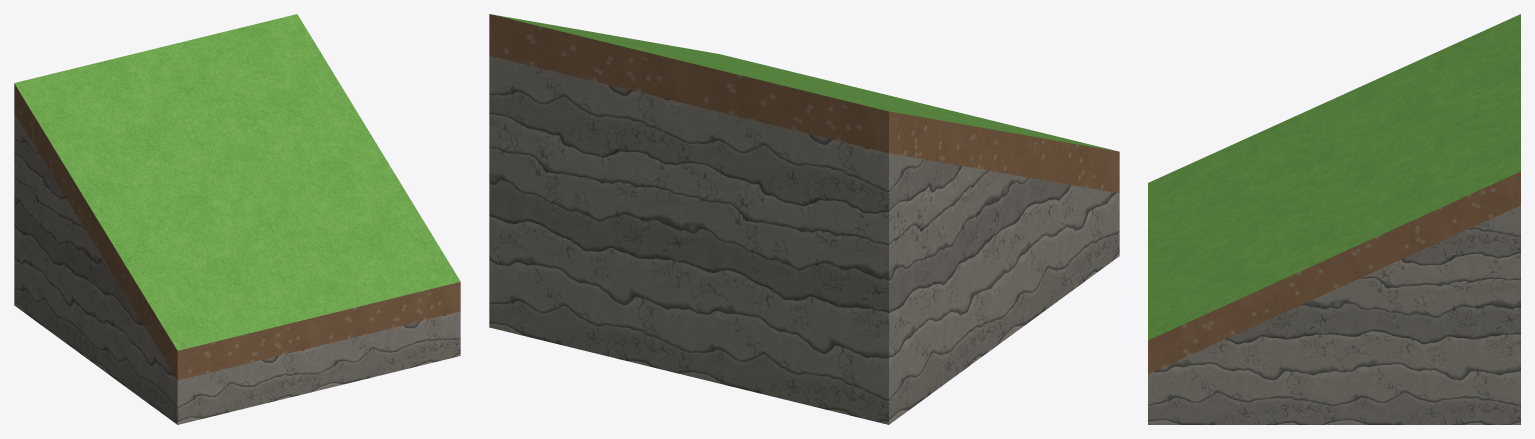
The model's file is Slope_LtoU_Straight.fbx.
3 renders of one model, left to right at view 1: azimuth 30°, elevation 25°; view 2: azimuth 150°, elevation 25°; view 3: azimuth 270°, elevation 25°, orthographic. The views are drawn at different scales.
Visible parts, largest first — view 1: Slope_LtoU_Straight; view 2: Slope_LtoU_Straight; view 3: Slope_LtoU_Straight.
Boxes of the visible parts, bbox=[...] form: Slope_LtoU_Straight: bbox=[14, 14, 460, 424]; Slope_LtoU_Straight: bbox=[489, 14, 1119, 424]; Slope_LtoU_Straight: bbox=[1148, 14, 1520, 424].
Bounding box in the file's own units: 3 × 2.25 × 3.
3 materials, 3 textured.
